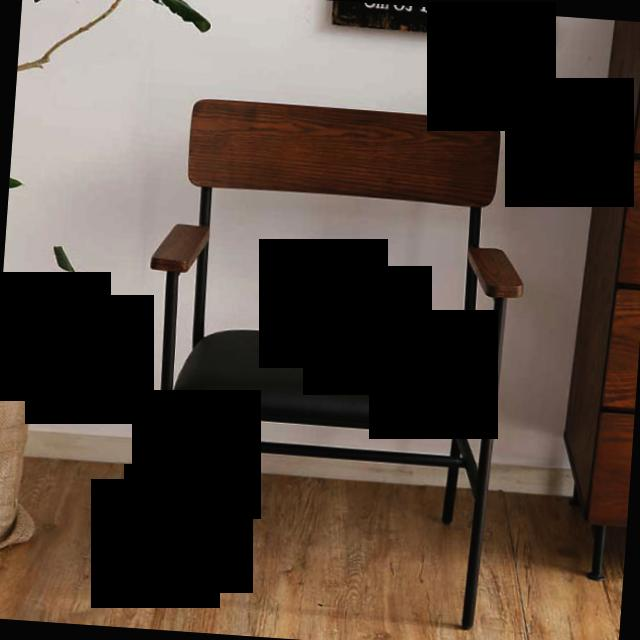chair vintage: (117, 85, 544, 632)
